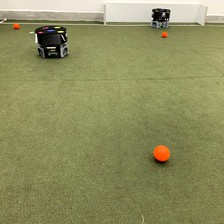ball: (150, 143, 171, 164), (160, 30, 168, 38), (12, 23, 21, 30)
goal: (99, 1, 208, 28)
robot: (33, 24, 71, 59), (150, 7, 171, 28)
